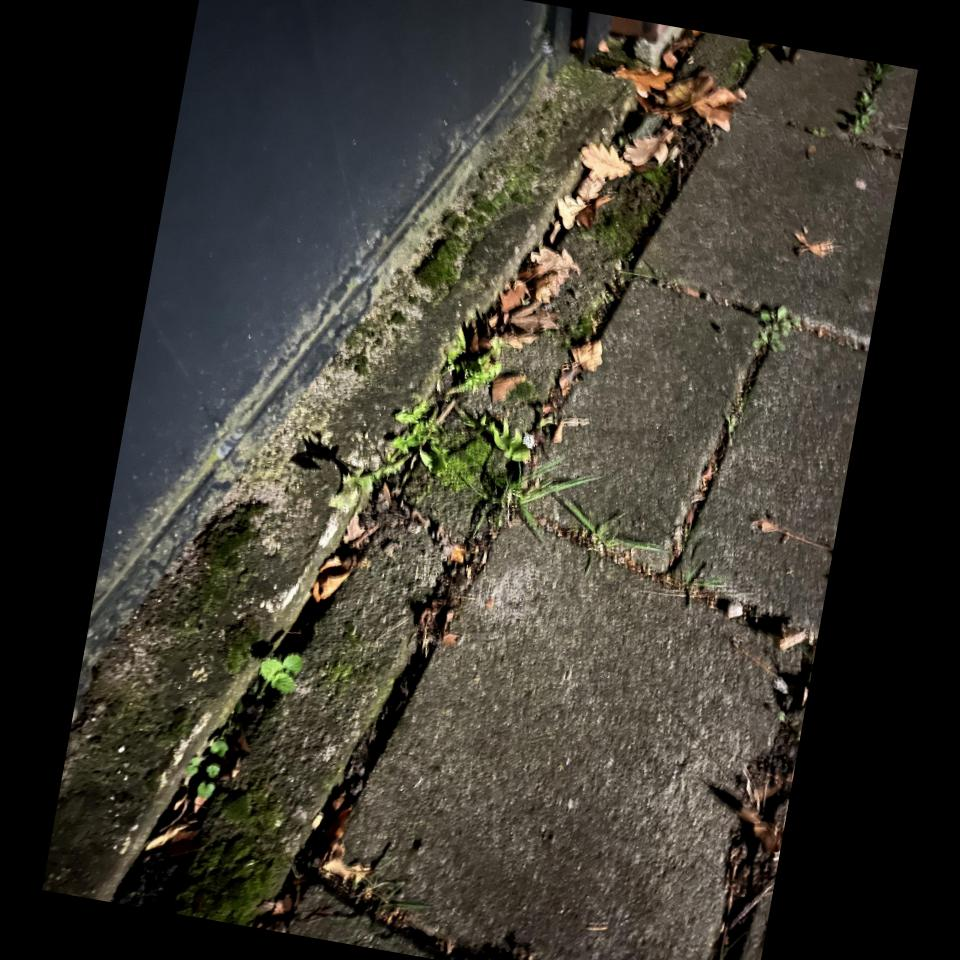weed: (355, 335, 506, 488)
